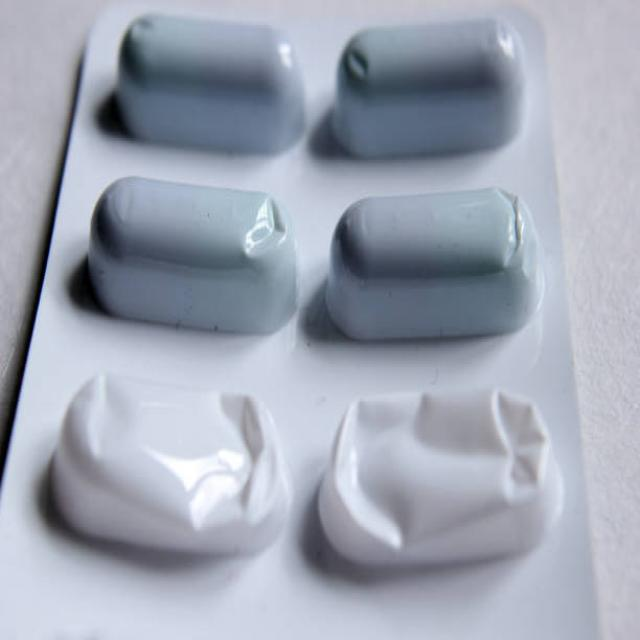Empty: (299, 375, 575, 589), (42, 364, 295, 580)
Pill: (82, 160, 318, 351), (320, 164, 548, 361), (100, 0, 314, 160), (322, 0, 532, 163)
